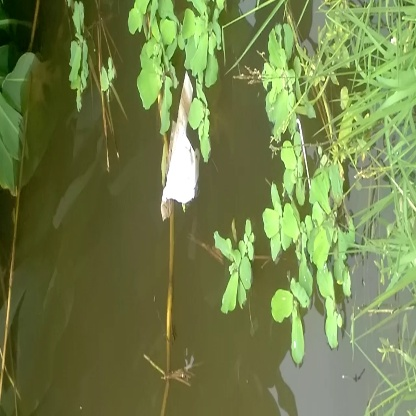plastic-bag: (149, 77, 208, 217)
